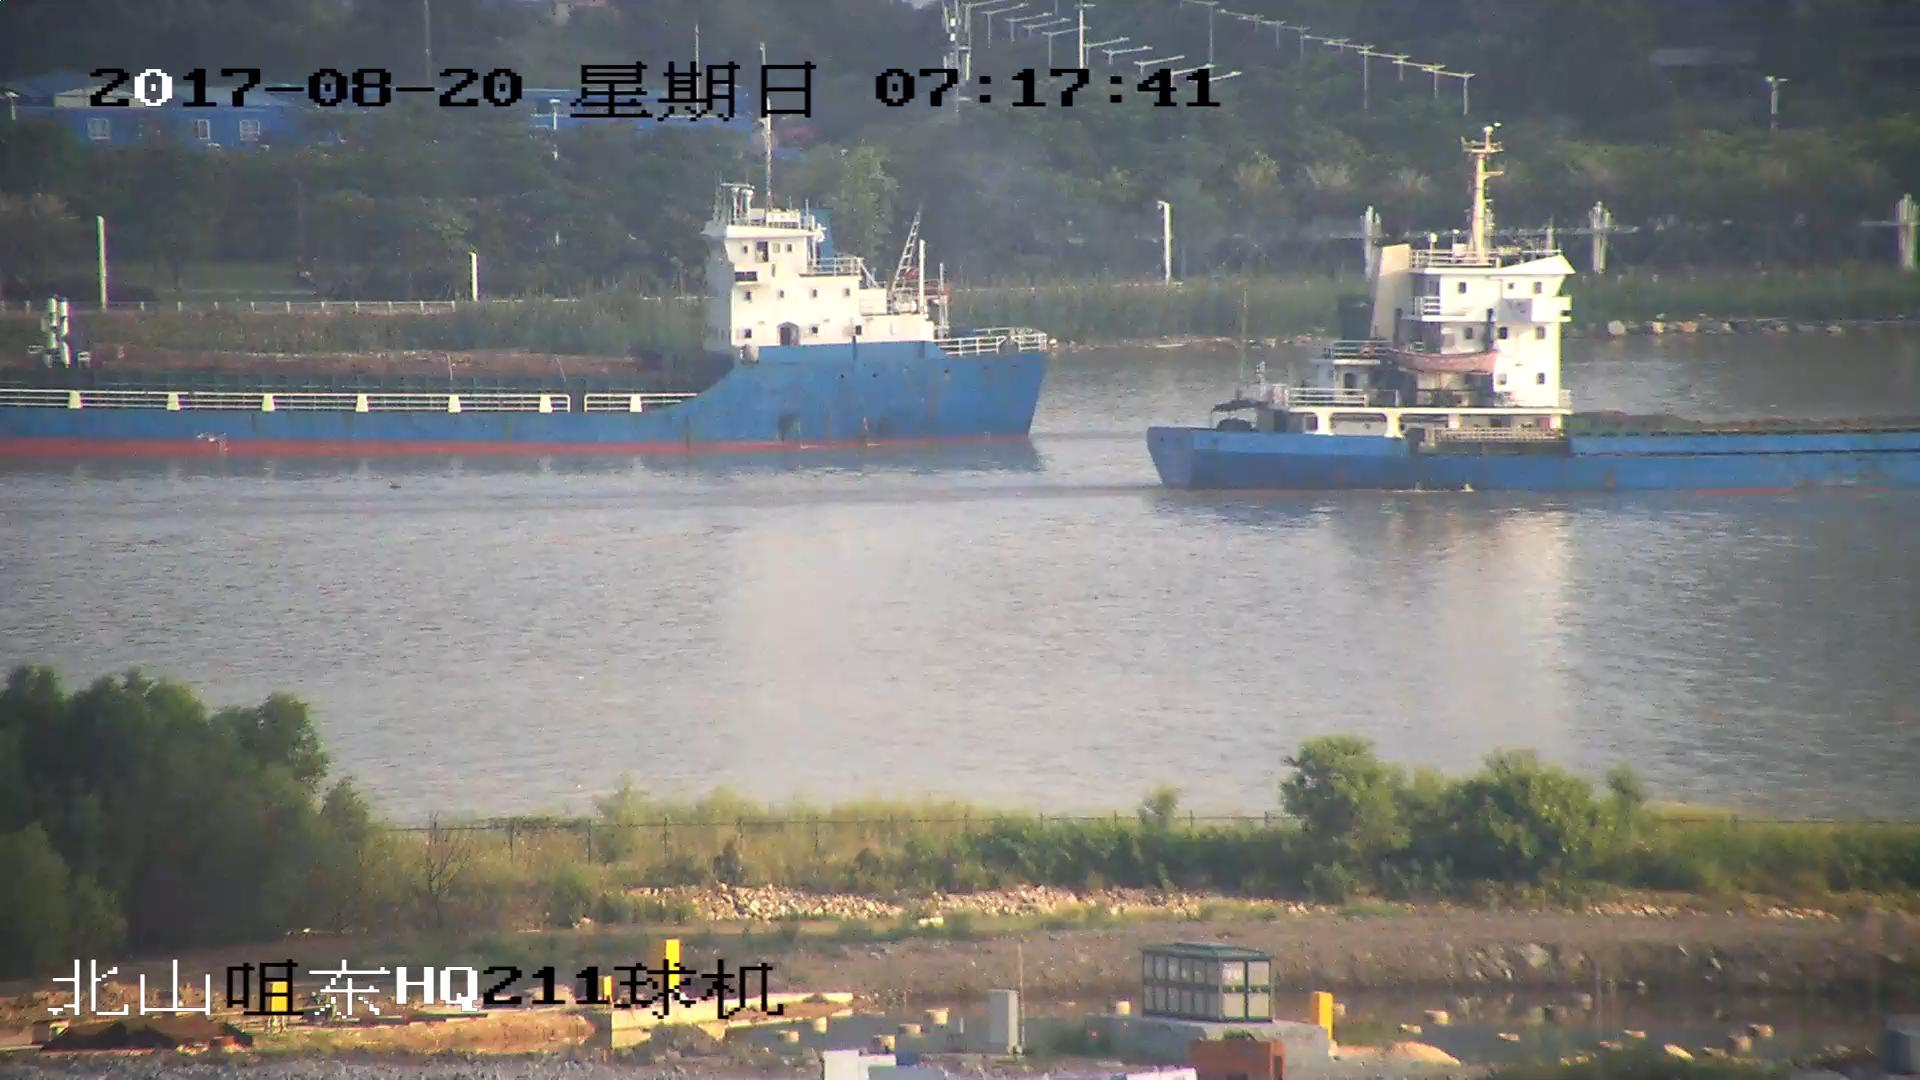Ship: (3, 178, 1056, 451), (1162, 183, 1920, 491)
